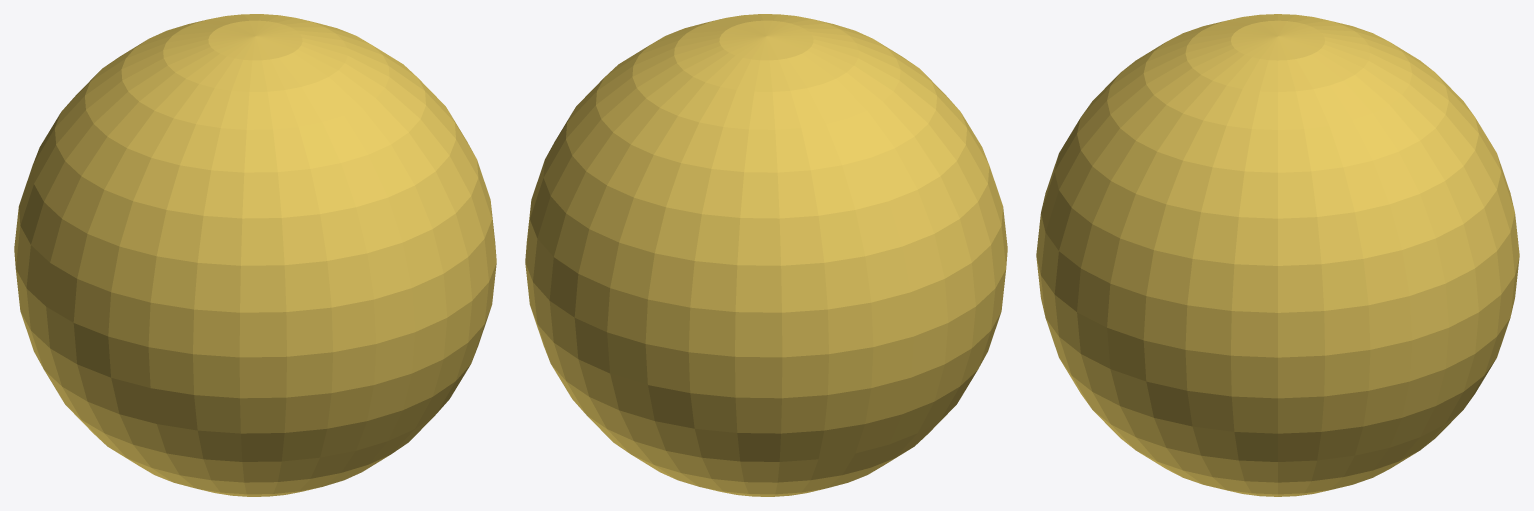
The model's file is magic projectile.fbx.
The picture shows the model from 3 angles, left to right: view 1: azimuth 30°, elevation 25°; view 2: azimuth 150°, elevation 25°; view 3: azimuth 270°, elevation 25°; orthographic projection.
Parts seen in each view (by area): view 1: Sphere.001; view 2: Sphere.001; view 3: Sphere.001.
Boxes of the visible parts, x1,y1,x2,y2 form: Sphere.001: (14,14,496,496); Sphere.001: (525,14,1007,496); Sphere.001: (1036,14,1519,496).
Size of the model in its own units: 30 by 30 by 30.
